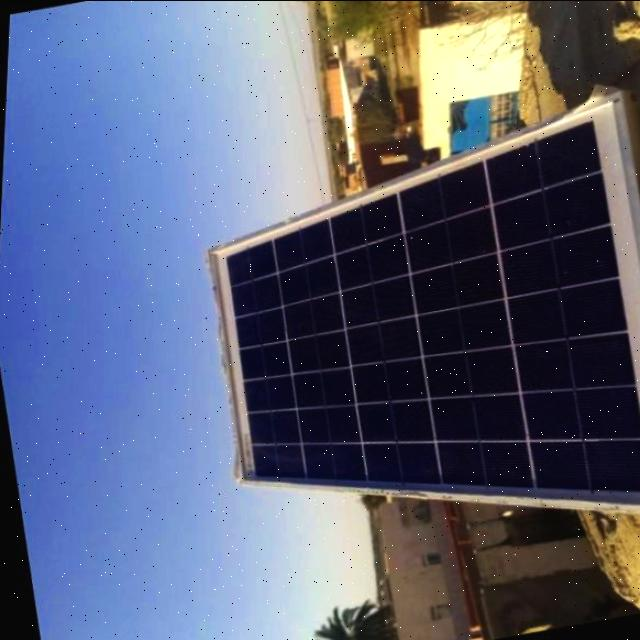Normal Solar Panel: (170, 88, 640, 596)
